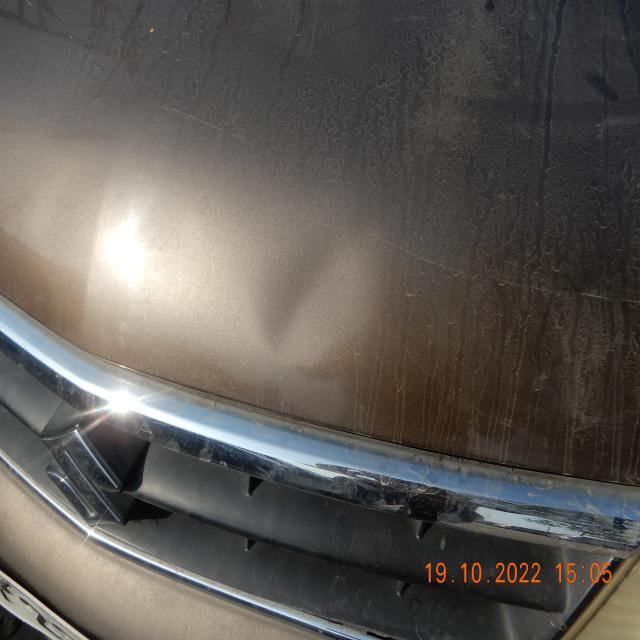damage: (232, 225, 379, 384), (352, 468, 477, 534)
